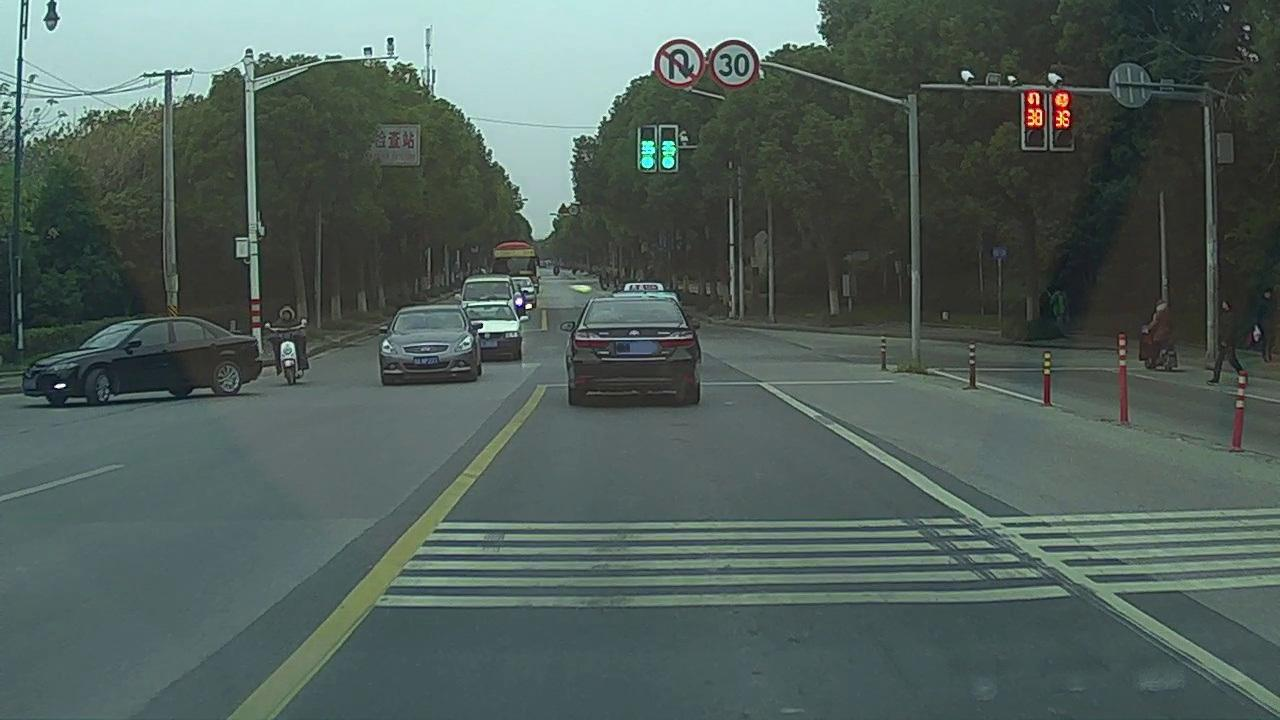traffic_light: (1055, 91, 1075, 152), (1025, 85, 1043, 151), (637, 125, 655, 168), (659, 127, 676, 171)
